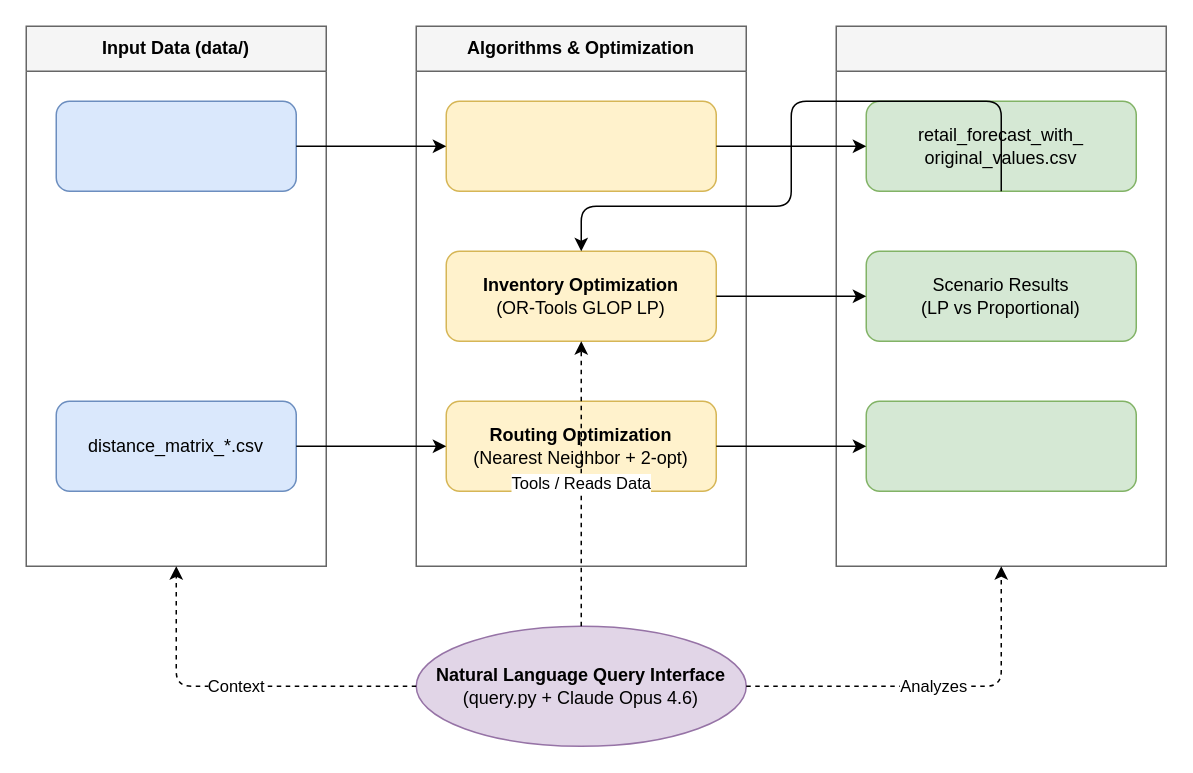
Some shapes in this 1193 by 773 pixel diagram are drawn without their labels. Here are the shapes that lost their labels. From the top down, the box of each, then its label:
(55, 100, 296, 191): retail_store_inventory.csv
(445, 100, 716, 191): Demand Forecasting (XGBoost Regressor)
(835, 25, 1166, 566): Output Artifacts
(865, 400, 1136, 491): Optimized Delivery Routes (Console Output)
